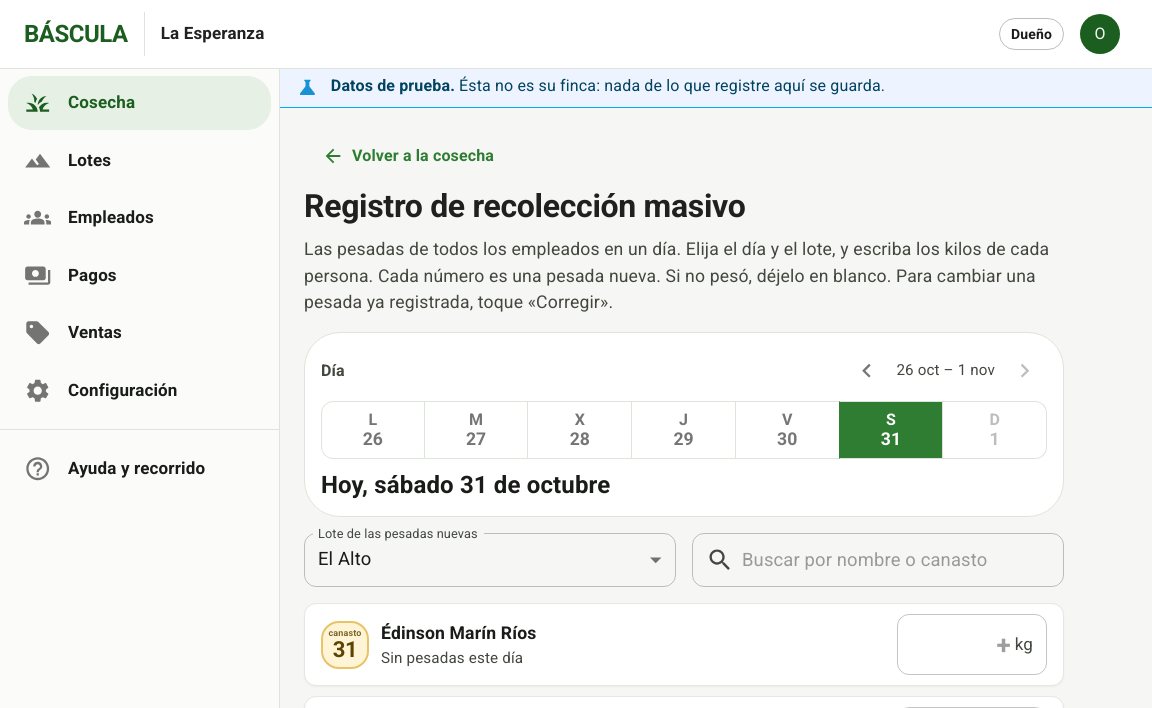
Test: Registro de recolección masivo › opens on today and moves to another day with one tap
This screenshot has width=1152, height=708.
Expected: the text "Hoy, sábado 31 de octubre" is shown, [321,471,610,499]
Expected: the button "Ir a hoy" is not shown
Click the button "L 26" at (373, 430), box [321,400,425,459]
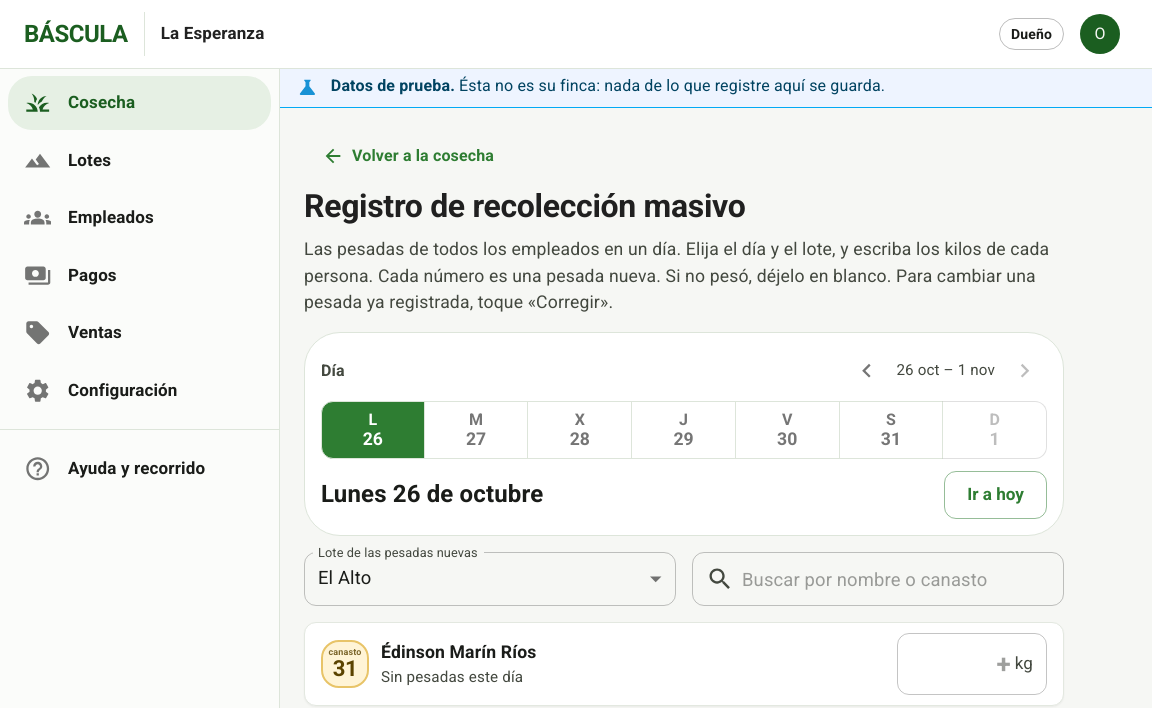
Now the button "Ir a hoy" is shown, box [944,471,1047,519]
